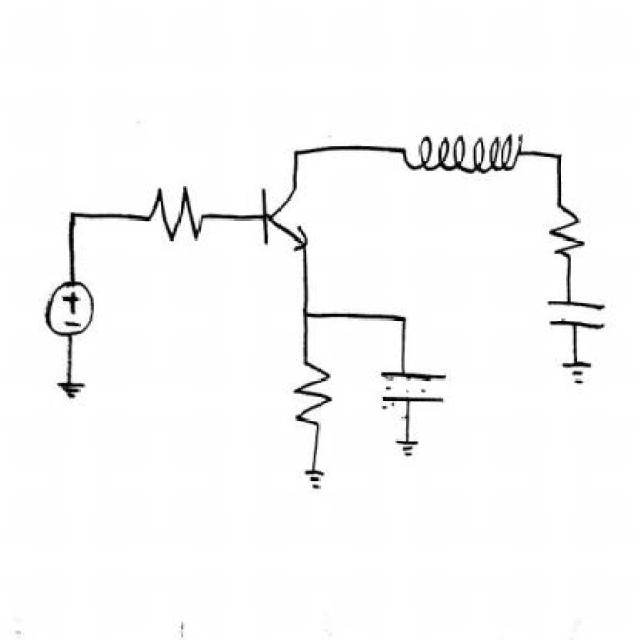capacitor: (376, 348, 448, 420), (541, 297, 617, 344)
ground: (552, 356, 606, 399), (297, 462, 343, 500), (49, 372, 97, 404), (388, 432, 430, 462)
inductor: (401, 132, 541, 180)
resistor: (141, 172, 210, 247), (291, 357, 342, 436), (548, 199, 588, 269)
transistor: (251, 176, 320, 259)
voltage_source: (42, 264, 109, 342)
